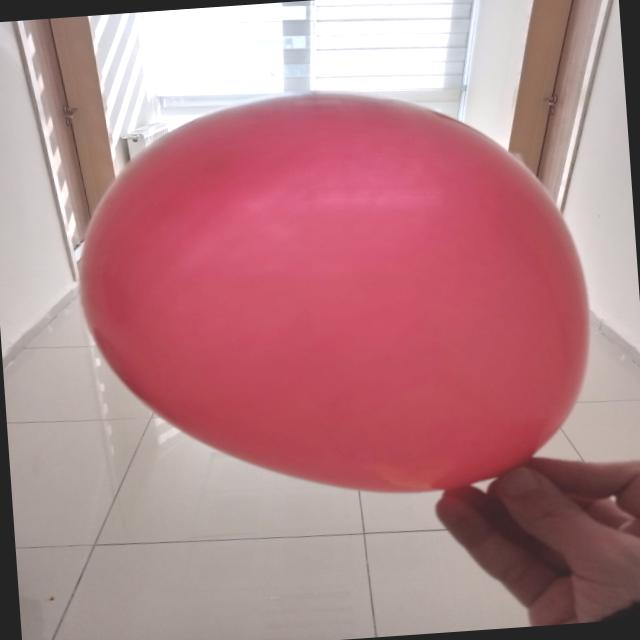balloon: (82, 92, 589, 492)
